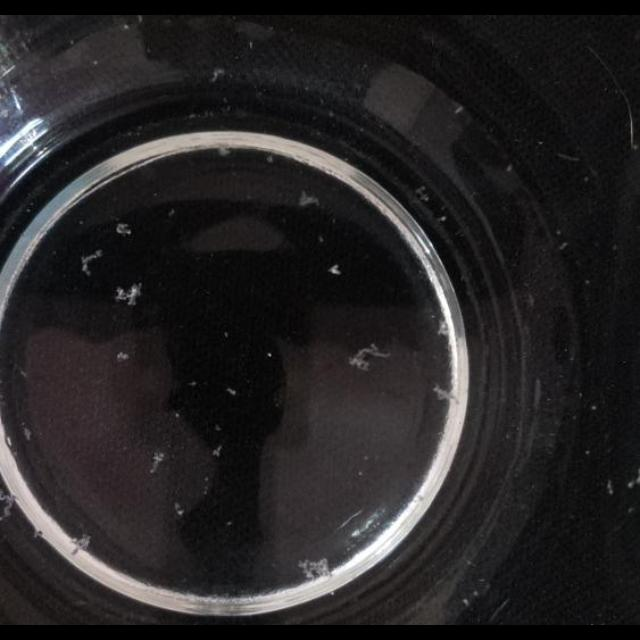Fibre: (346, 342, 392, 372), (298, 558, 332, 582), (81, 248, 105, 276), (432, 384, 461, 406), (115, 284, 143, 306), (68, 533, 92, 557), (0, 489, 16, 521), (148, 450, 166, 474), (298, 190, 318, 208), (414, 187, 430, 203), (210, 68, 226, 82), (437, 321, 449, 337), (116, 224, 132, 236), (216, 146, 232, 156)
microbeads: (626, 472, 638, 490), (174, 501, 186, 517), (327, 264, 341, 276), (21, 426, 31, 442), (116, 352, 130, 362), (211, 446, 221, 458), (226, 386, 236, 396), (608, 480, 614, 494), (168, 208, 176, 218), (266, 154, 274, 164), (558, 242, 568, 250), (505, 162, 513, 172), (439, 215, 447, 223), (318, 236, 326, 244), (226, 520, 234, 528), (173, 410, 180, 418), (188, 381, 196, 387), (584, 175, 590, 183), (628, 506, 634, 514), (223, 331, 229, 339), (590, 404, 596, 411), (357, 469, 363, 476), (92, 60, 98, 66), (266, 352, 272, 358), (584, 449, 590, 455)
